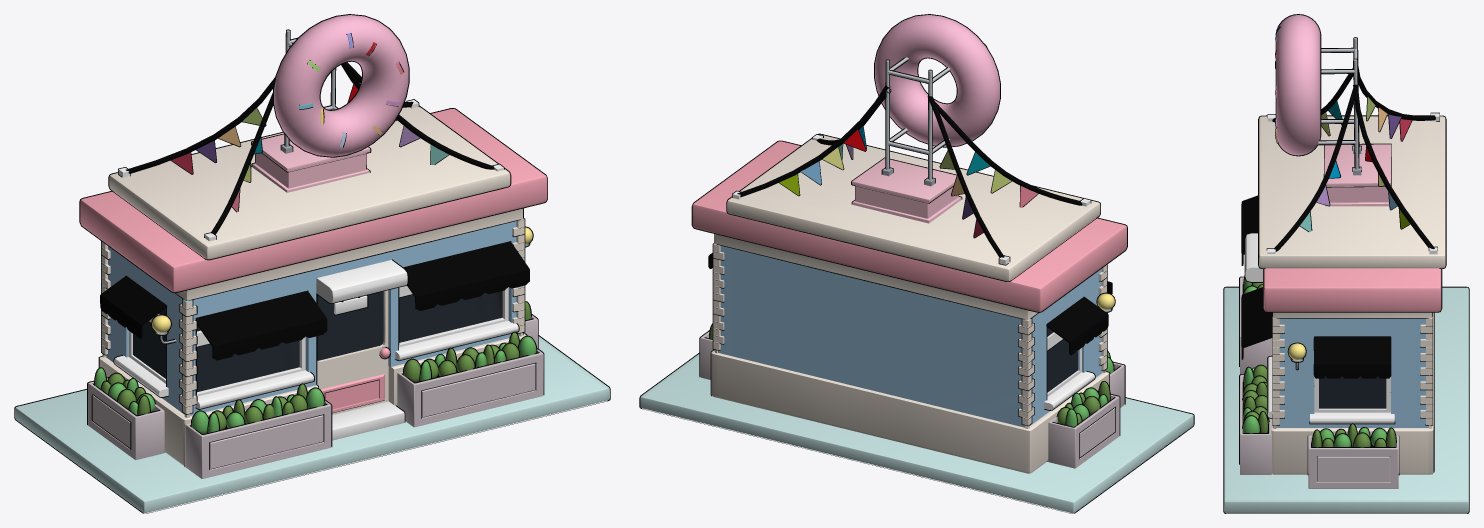
The model's file is Shop.fbx.
3 views of the same model, side by side, from view 1: azimuth 30°, elevation 25°; view 2: azimuth 150°, elevation 25°; view 3: azimuth 270°, elevation 25° (orthographic). The views are drawn at different scales.
Visible parts, largest first — view 1: Shop_Base, Outline, Roof, Floor, Pots, Donut, Door, Plants, Flags, Awning, Stair; view 2: Shop_Base, Roof, Floor, Outline, Donut, Flags, Pots, Plants; view 3: Shop_Base, Roof, Floor, Outline, Pots, Flags, Donut, Plants, Awning.
Part boxes in pixels (x1=…): Shop_Base: x1=80, y1=109, x2=547, y2=465; Outline: x1=14, y1=14, x2=610, y2=513; Roof: x1=109, y1=106, x2=510, y2=259; Floor: x1=15, y1=336, x2=609, y2=512; Pots: x1=88, y1=315, x2=543, y2=478; Donut: x1=274, y1=15, x2=408, y2=156; Door: x1=317, y1=290, x2=389, y2=414; Plants: x1=95, y1=302, x2=536, y2=434; Flags: x1=118, y1=30, x2=503, y2=241; Awning: x1=316, y1=260, x2=407, y2=302; Stair: x1=332, y1=401, x2=404, y2=440; Shop_Base: x1=692, y1=141, x2=1126, y2=473; Roof: x1=727, y1=134, x2=1100, y2=281; Floor: x1=640, y1=354, x2=1193, y2=513; Outline: x1=639, y1=14, x2=1194, y2=513; Donut: x1=875, y1=15, x2=999, y2=146; Flags: x1=732, y1=57, x2=1090, y2=264; Pots: x1=700, y1=331, x2=1124, y2=468; Plants: x1=709, y1=325, x2=1113, y2=426; Shop_Base: x1=1263, y1=268, x2=1441, y2=474; Roof: x1=1259, y1=116, x2=1445, y2=268; Floor: x1=1224, y1=287, x2=1468, y2=513; Outline: x1=1223, y1=14, x2=1469, y2=513; Pots: x1=1240, y1=277, x2=1398, y2=488; Flags: x1=1267, y1=38, x2=1439, y2=254; Donut: x1=1275, y1=15, x2=1320, y2=155; Plants: x1=1242, y1=278, x2=1395, y2=447; Awning: x1=1245, y1=233, x2=1262, y2=281.
Bounding box in the file's own units: 641 × 538 × 310.
2 materials, 1 textured.
